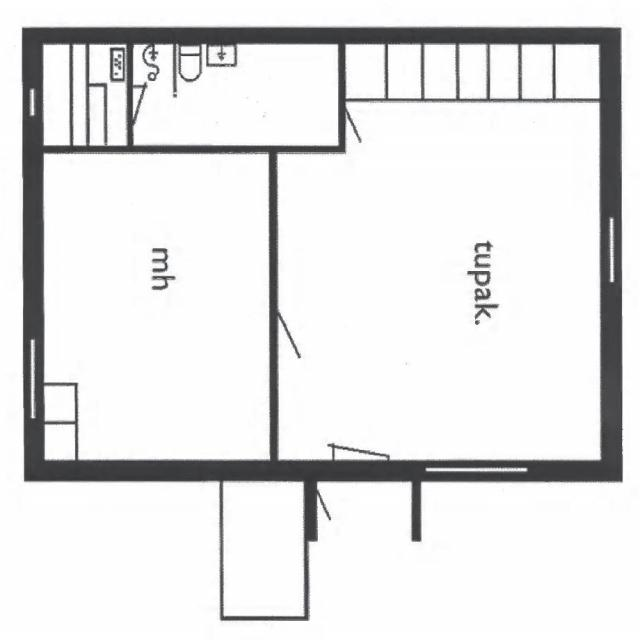door: (333, 401, 390, 482), (268, 306, 332, 364), (303, 489, 363, 539), (337, 102, 385, 144), (126, 86, 172, 128)
